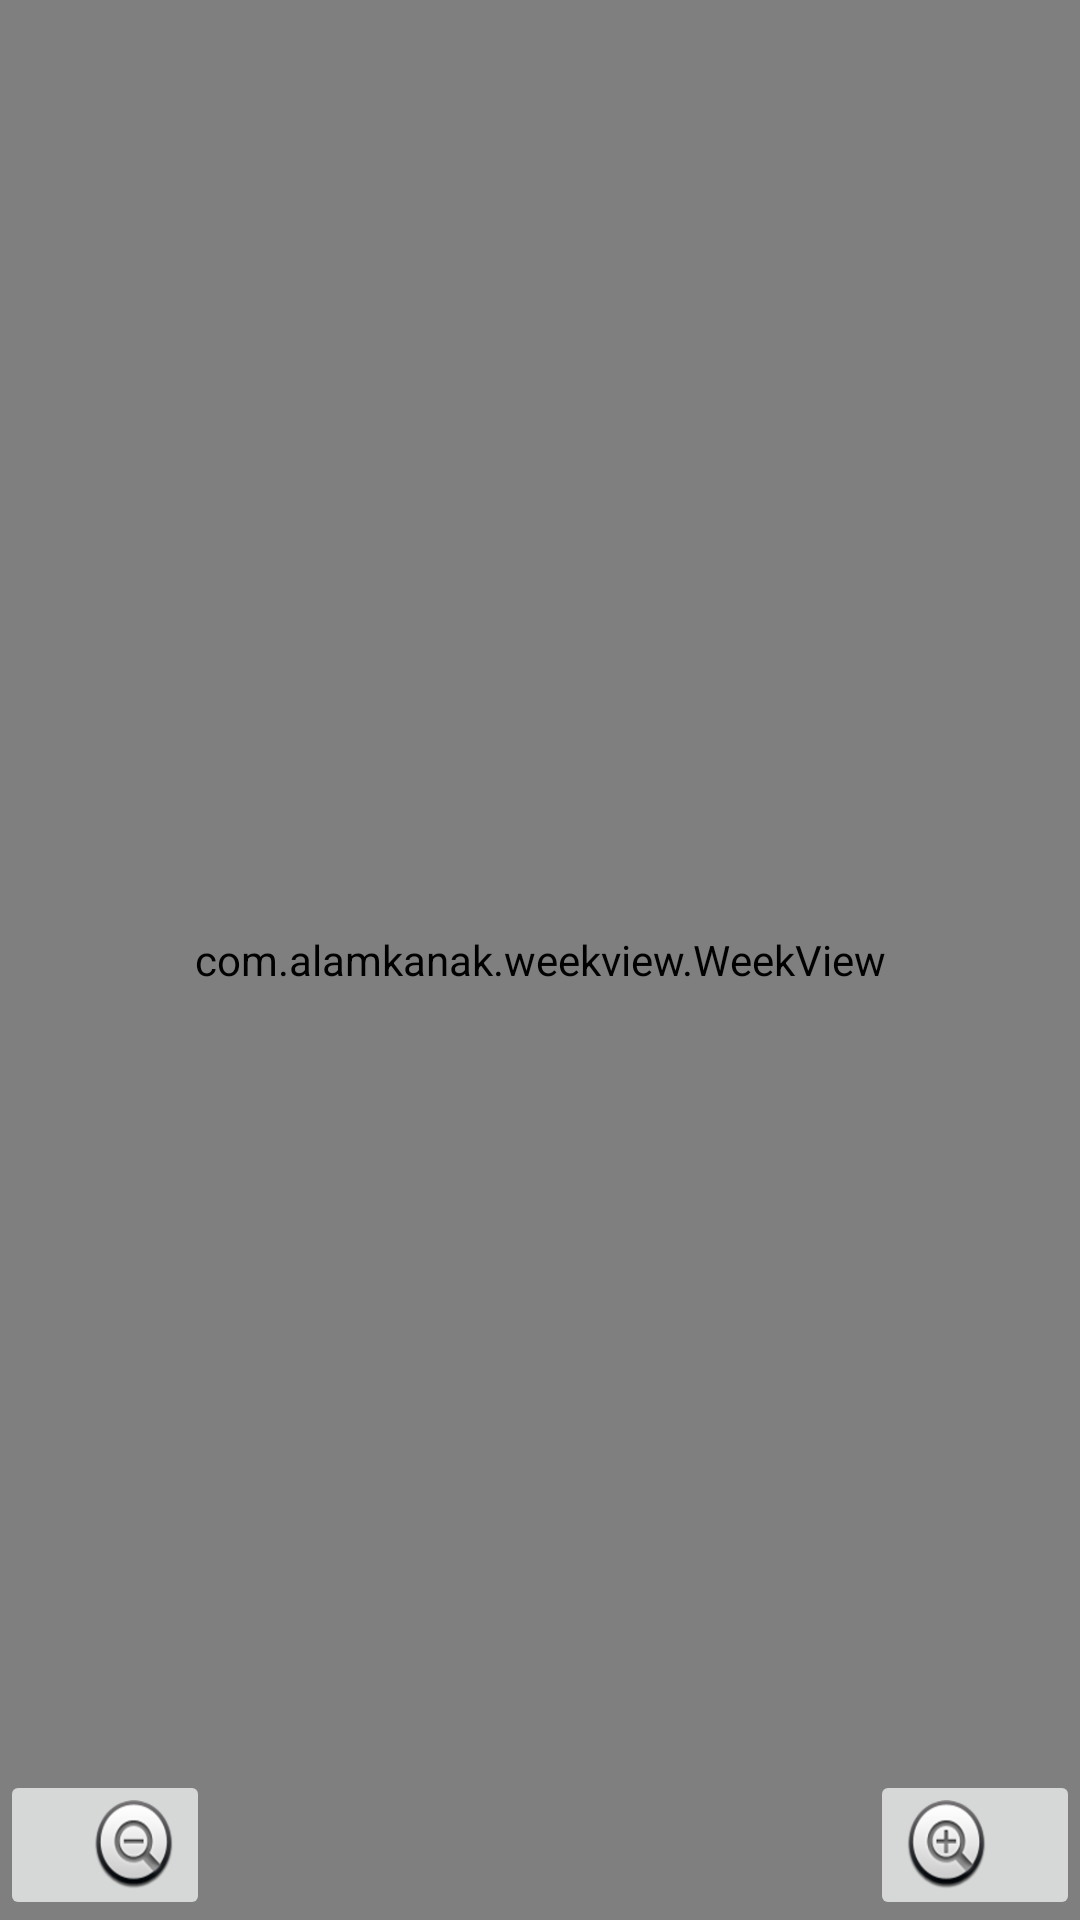

Point at icon controls on the screen. Image size 1080w x 1920h, points as point (x, y).
minus: point (105, 1845)
plus: point (975, 1845)
